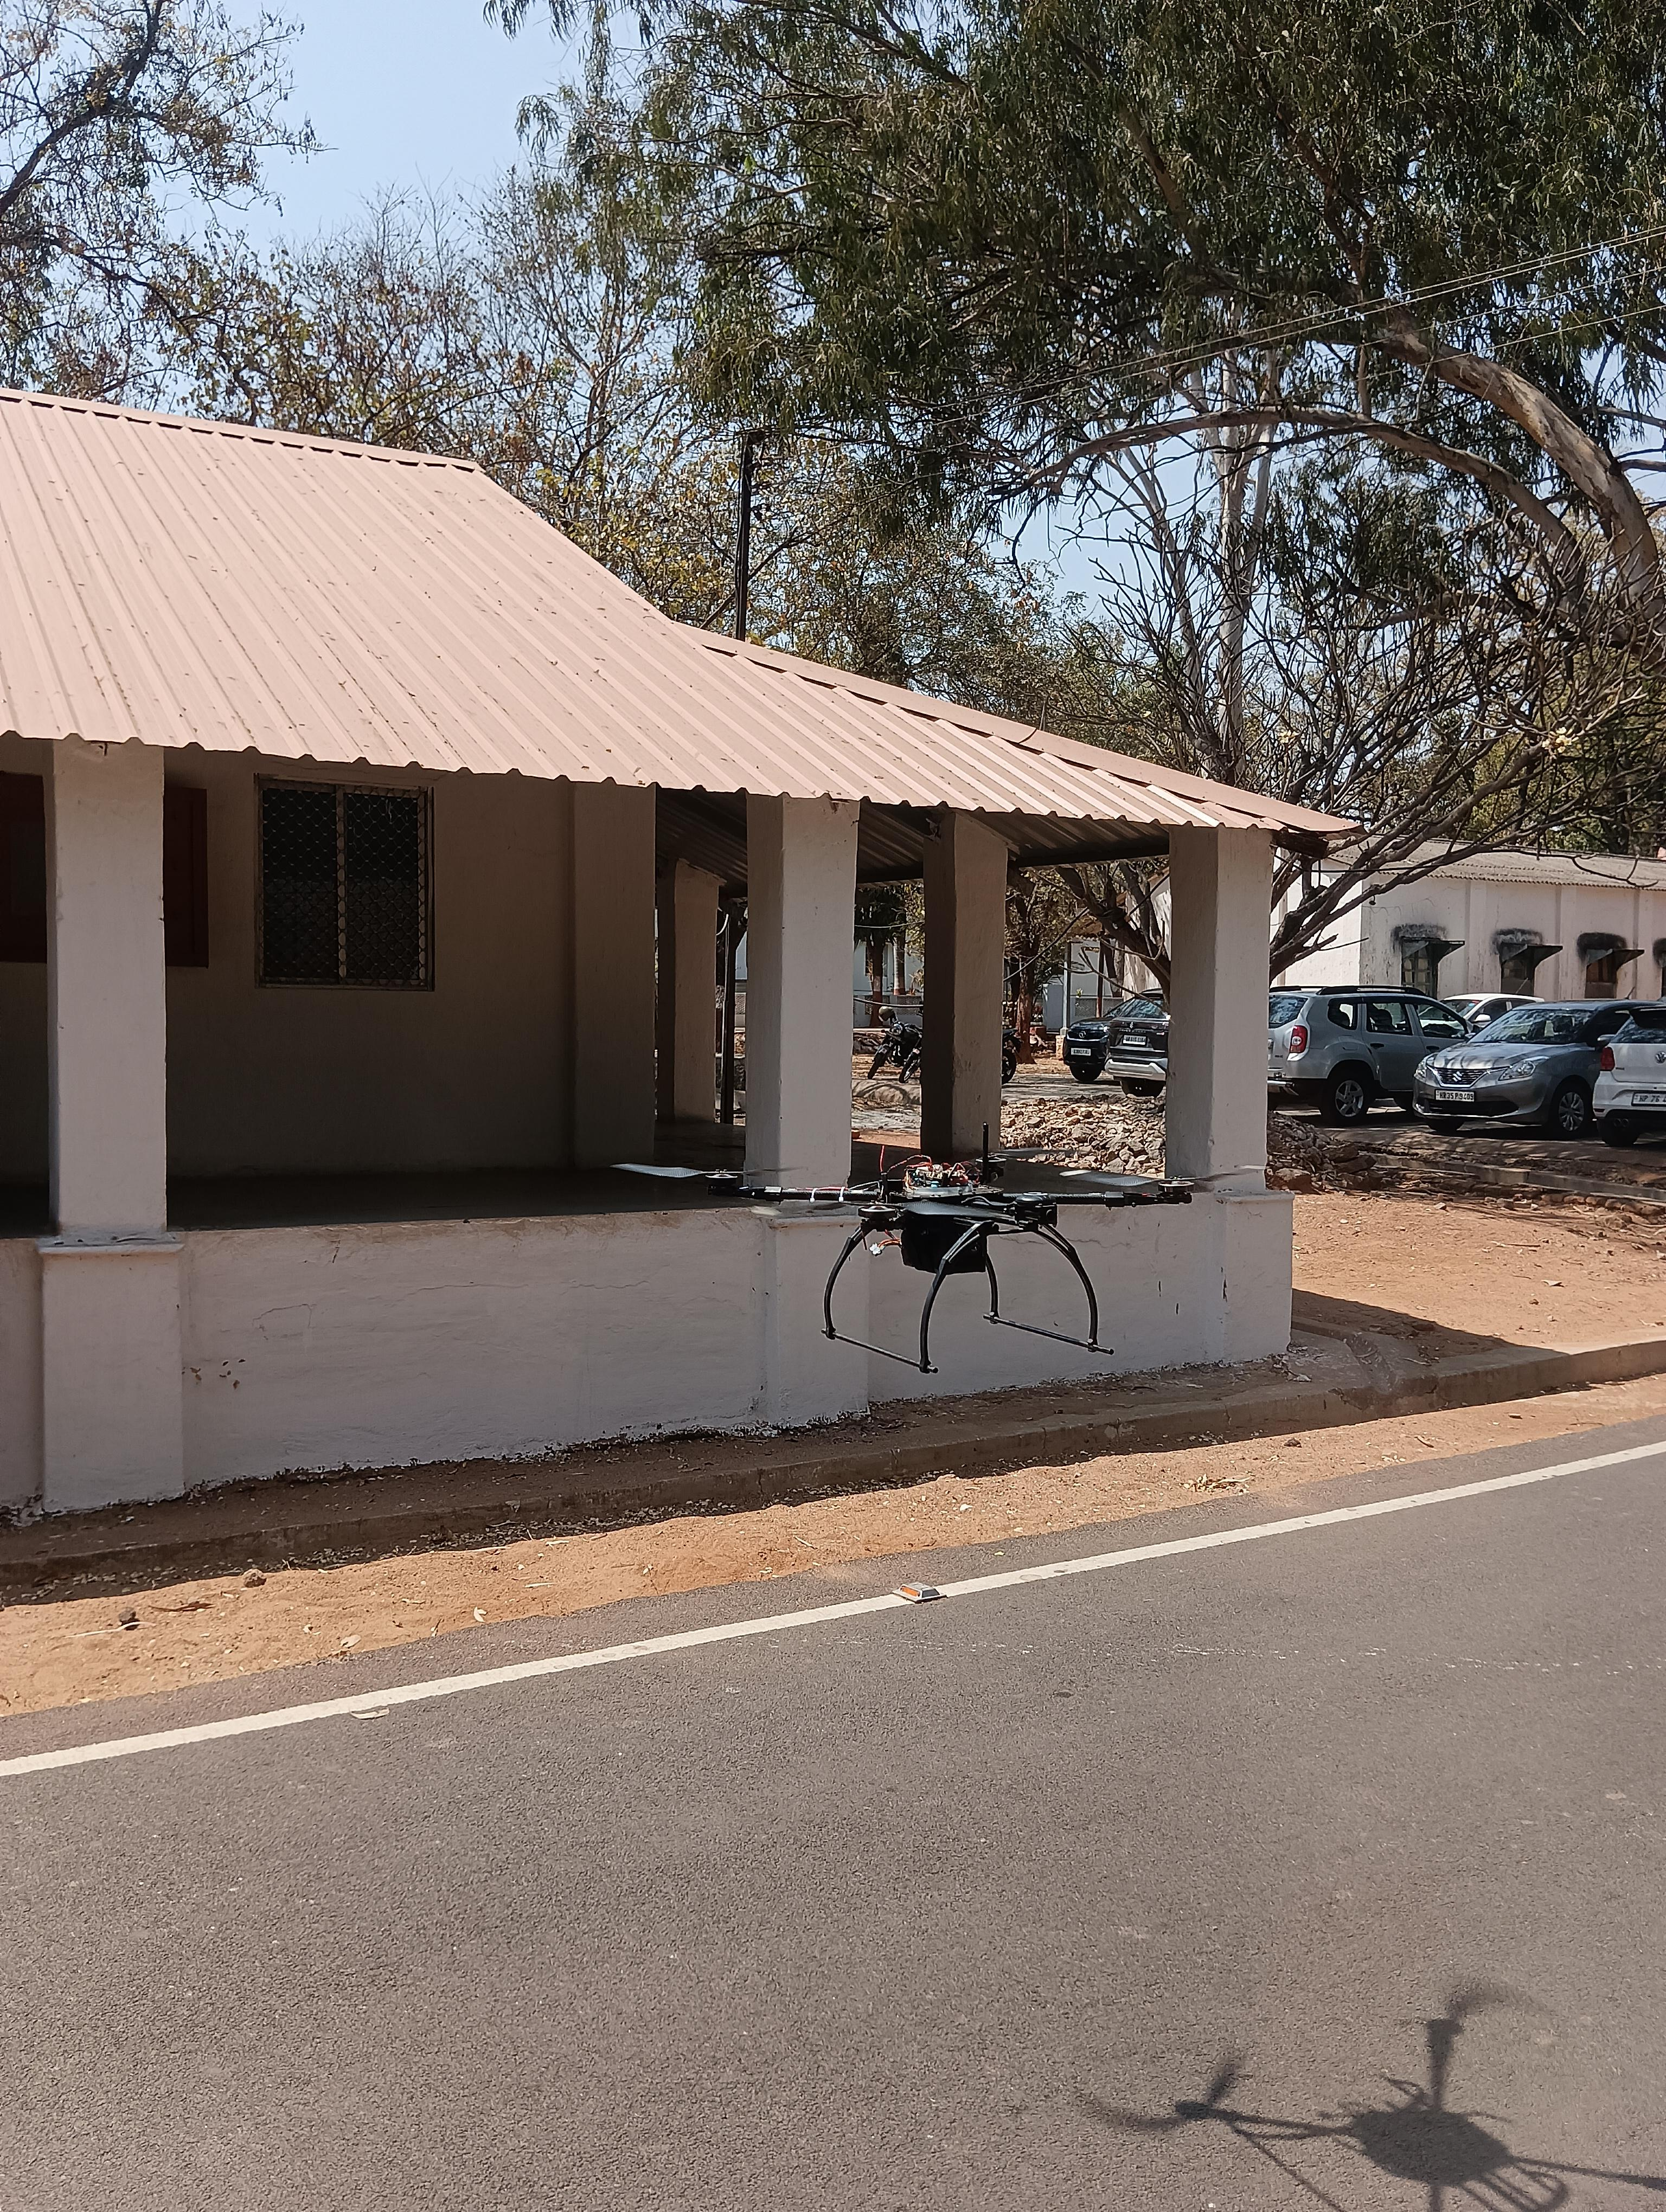drone: (598, 1096, 1249, 1399)
